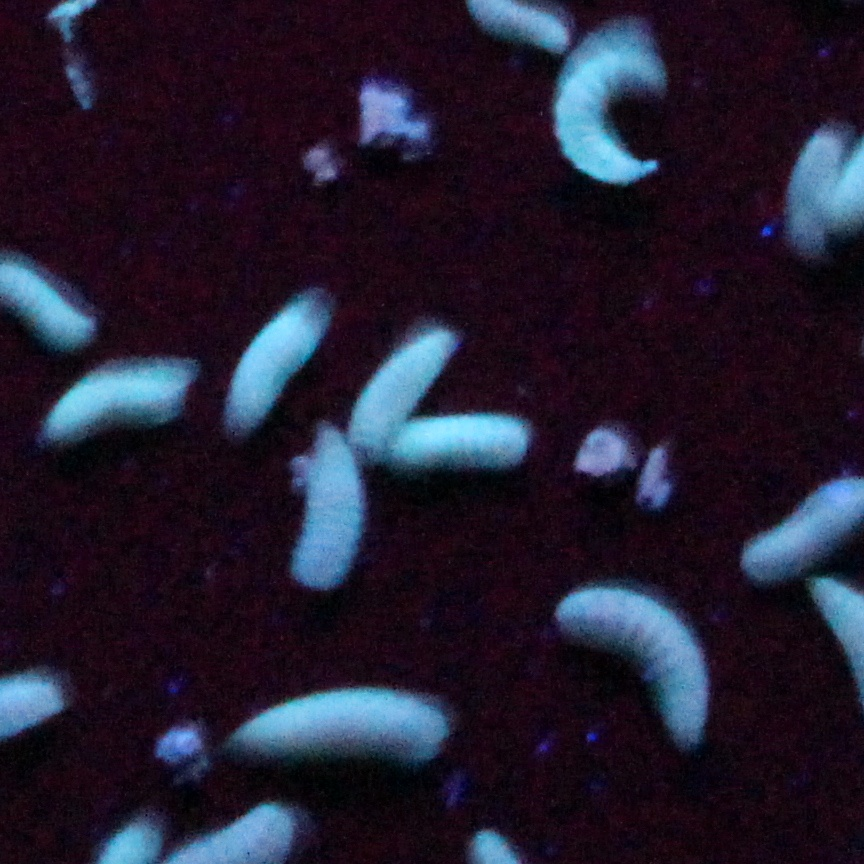larve: (553, 590, 706, 746), (228, 689, 446, 759), (556, 44, 662, 185), (348, 330, 452, 460), (231, 300, 326, 432), (294, 430, 361, 586), (49, 372, 185, 435), (391, 415, 529, 466), (788, 131, 840, 251)
